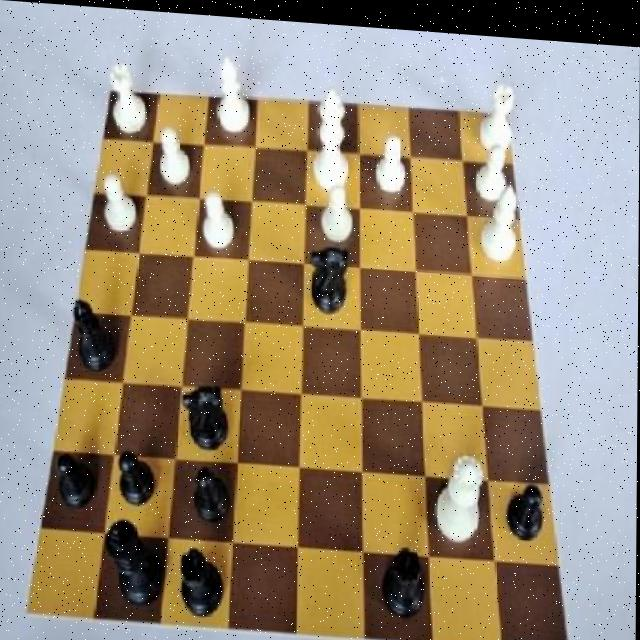bishop: (70, 293, 125, 380)
black-bishop: (99, 507, 167, 614)
black-king: (182, 372, 236, 456), (307, 240, 350, 322)
black-knight: (49, 442, 102, 525), (112, 441, 158, 520), (191, 458, 239, 528), (503, 472, 551, 541)
black-queen: (378, 533, 434, 620), (175, 541, 228, 623)
black-rook: (477, 174, 524, 264), (213, 54, 256, 139)
white-bishop: (303, 73, 360, 197)
white-knight: (369, 120, 411, 198), (99, 168, 142, 242), (314, 169, 356, 244), (471, 135, 516, 205), (150, 120, 196, 188), (200, 183, 242, 253)
white-pawn: (429, 436, 492, 553)
white-queen: (107, 56, 155, 135), (478, 68, 517, 149)
